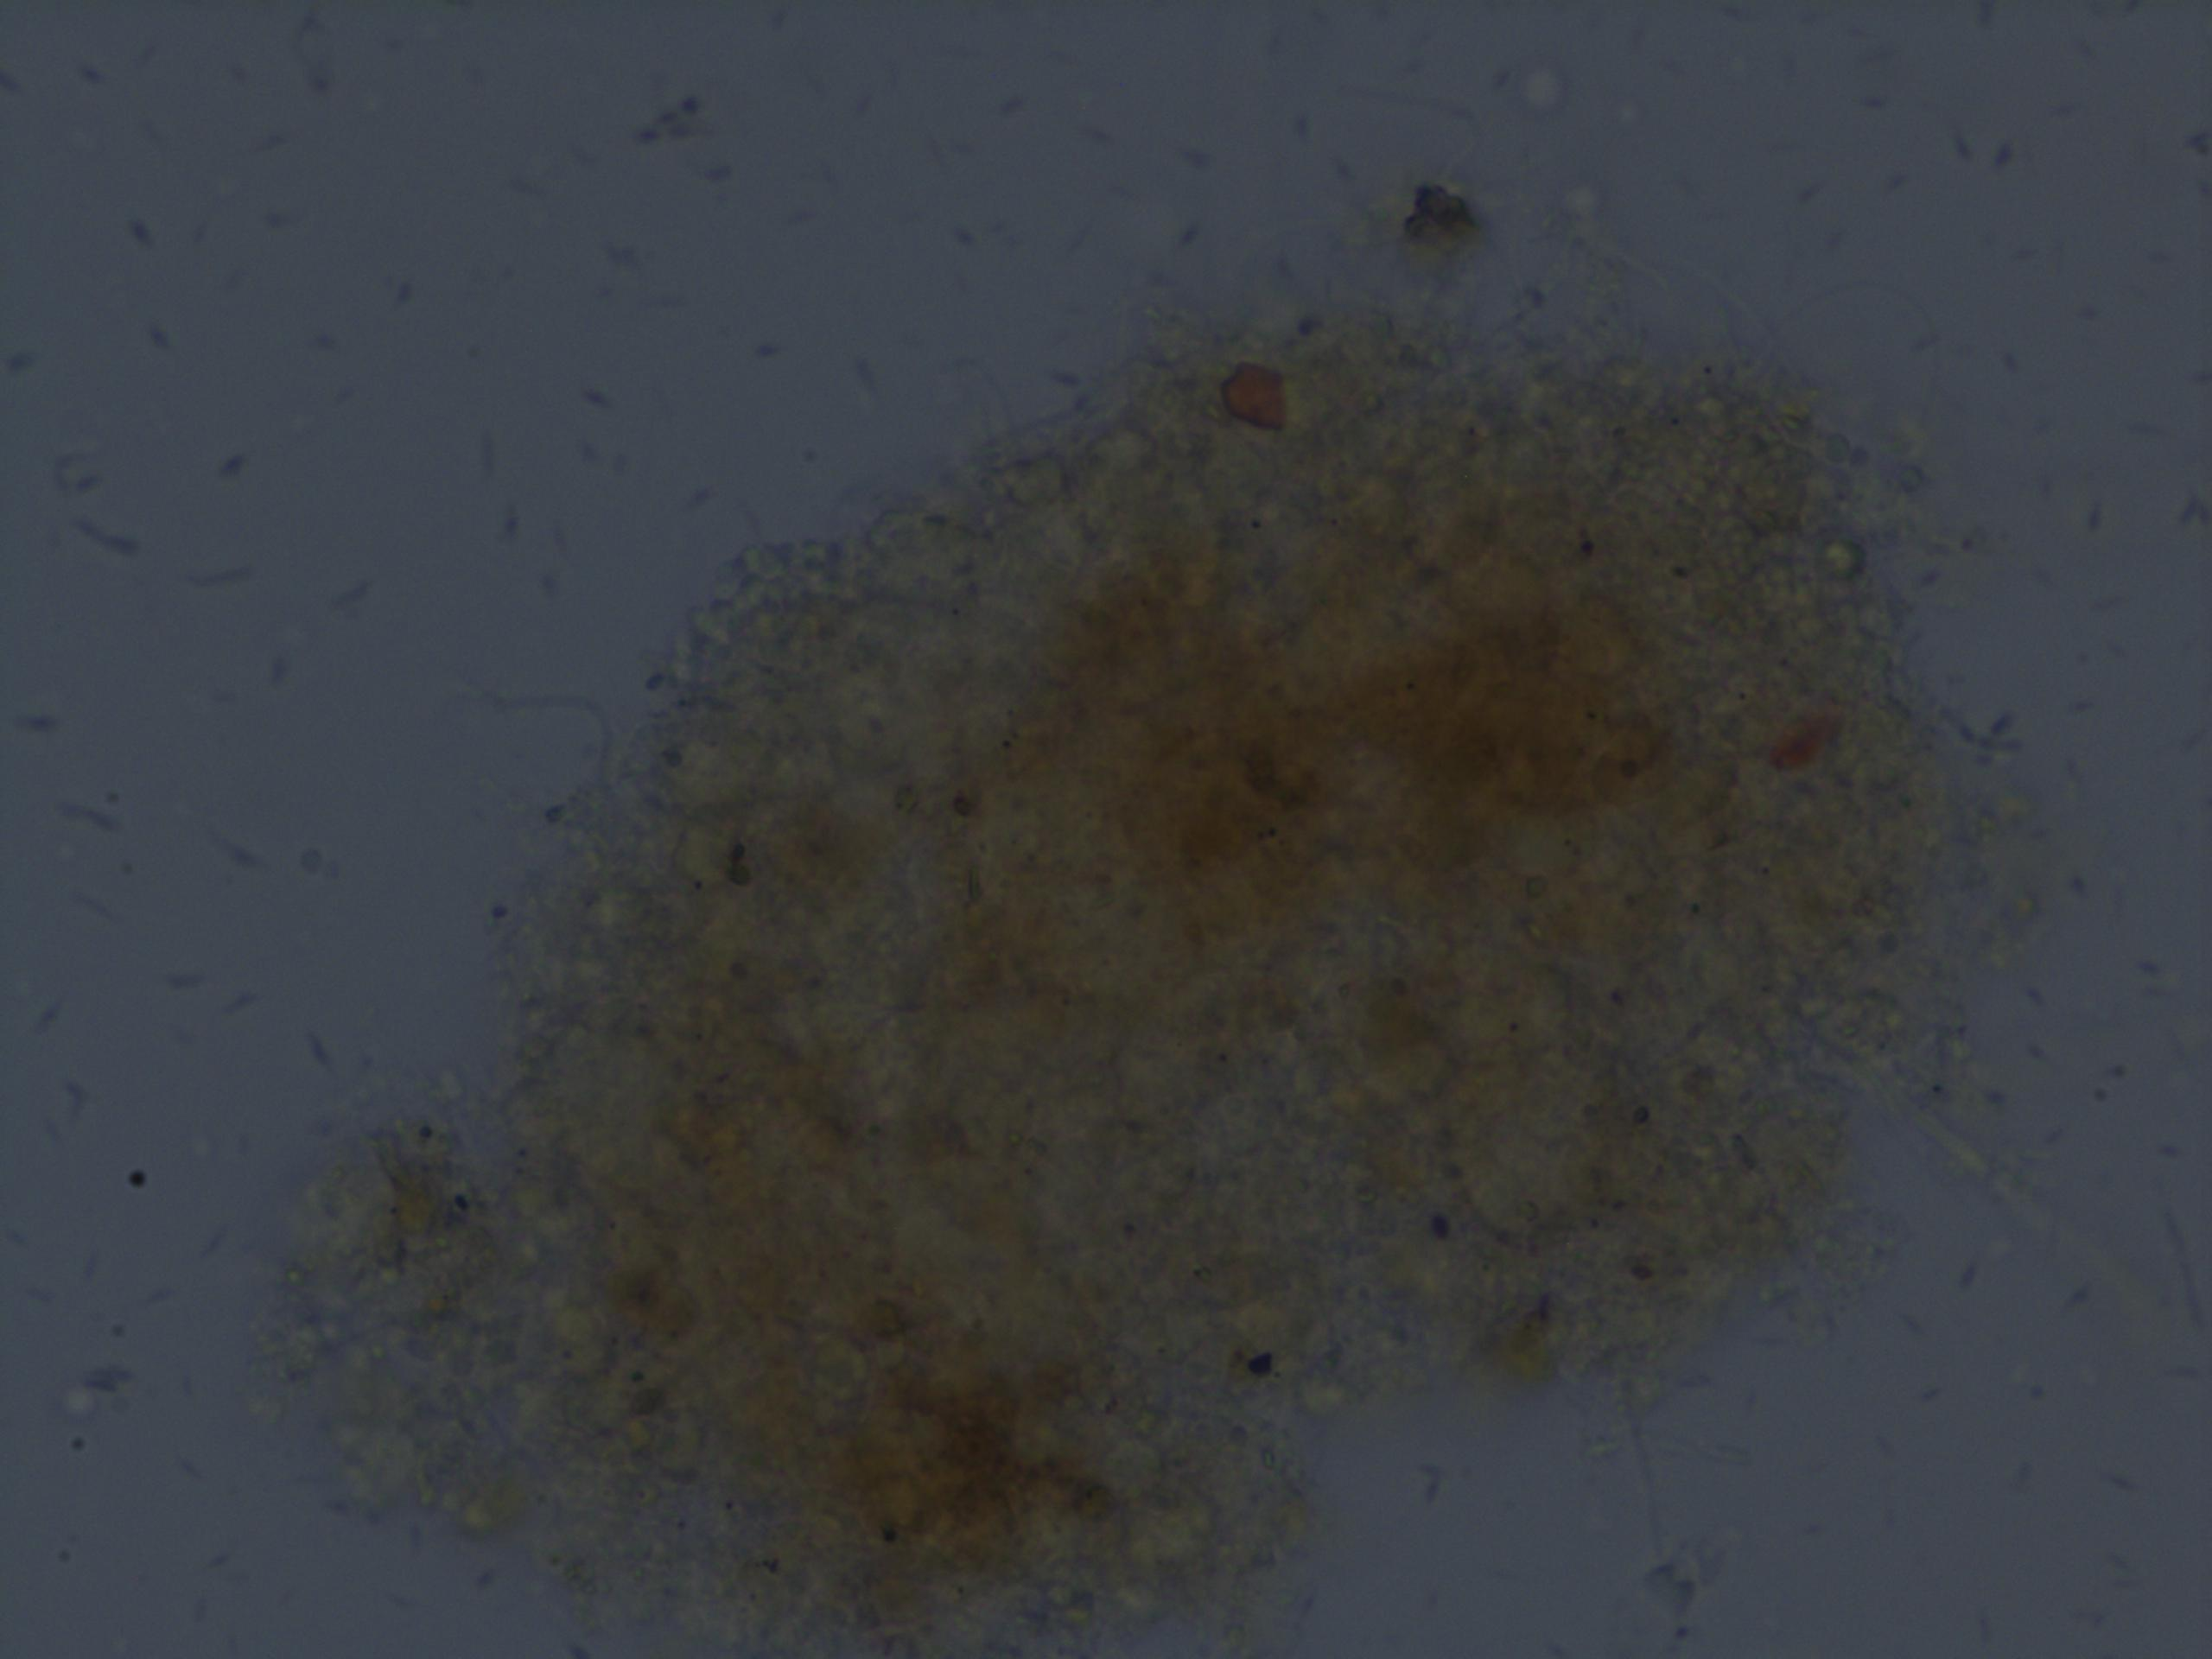spherical_floc: (341, 312, 2024, 1659)
